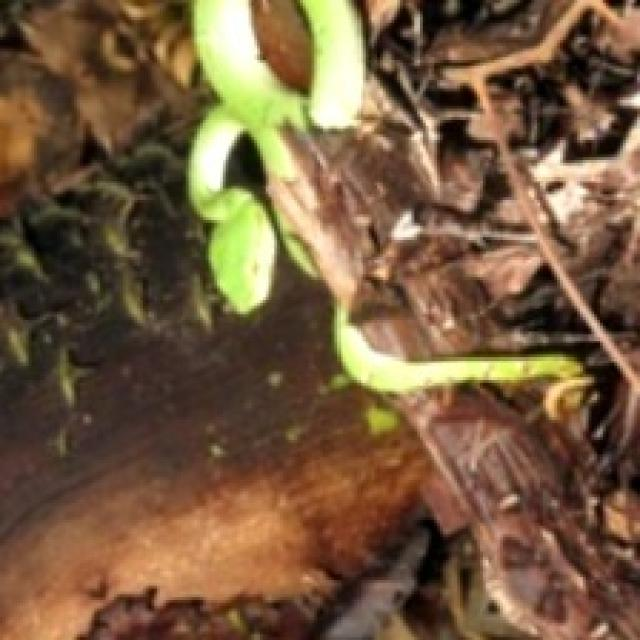north ph temple pitviper: (189, 0, 365, 312), (336, 307, 592, 422), (278, 212, 311, 272)
